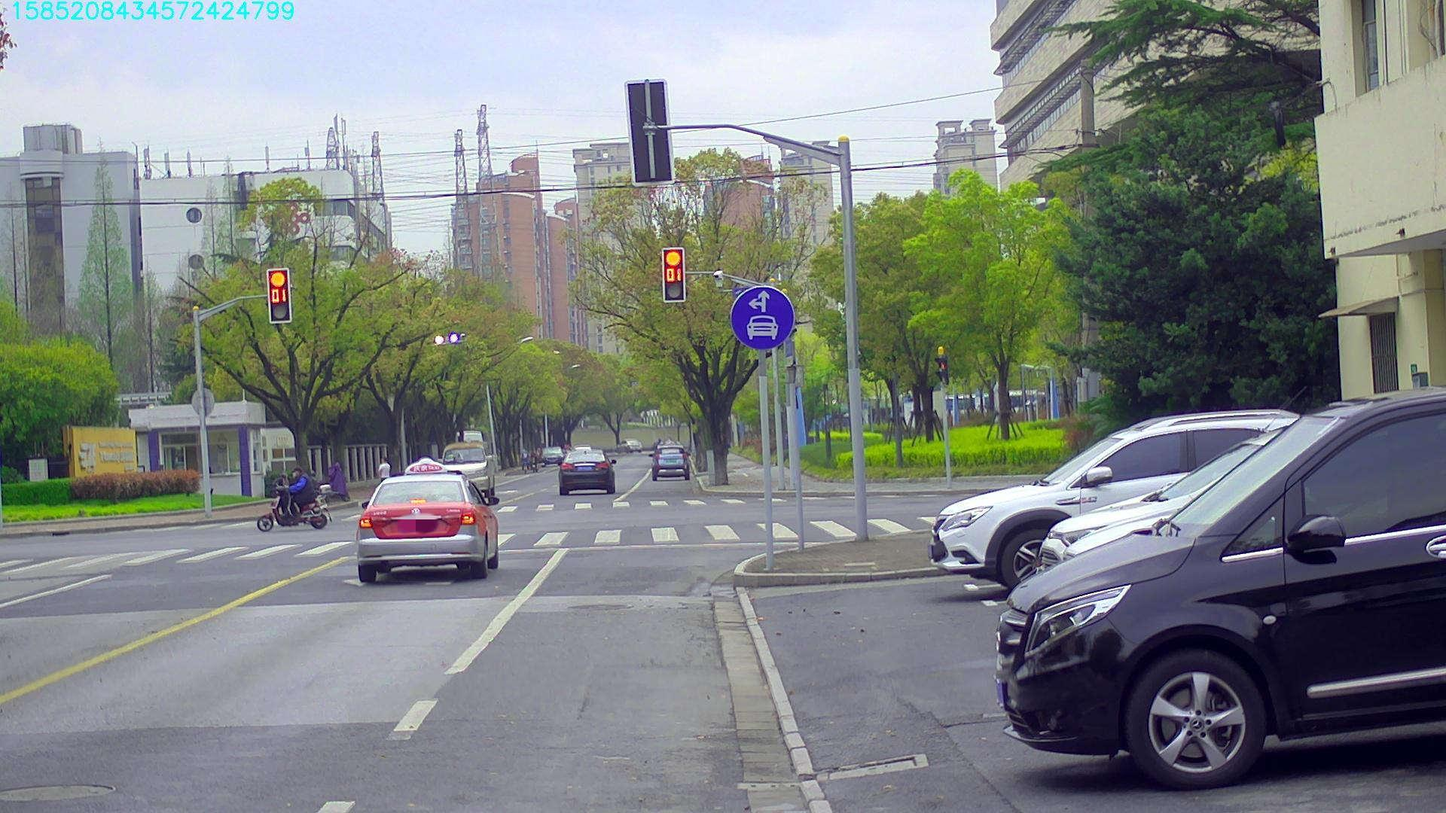red: (662, 248, 684, 301), (267, 269, 289, 321)
